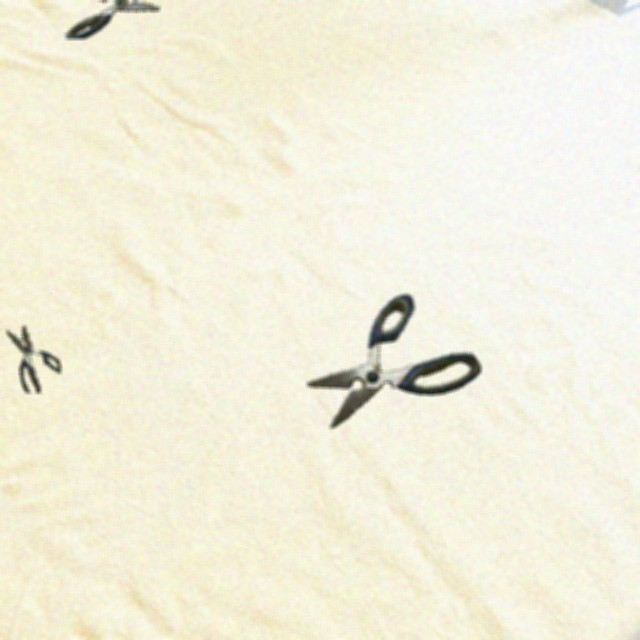scissors: (307, 294, 481, 428), (65, 0, 160, 39), (7, 325, 61, 393)
